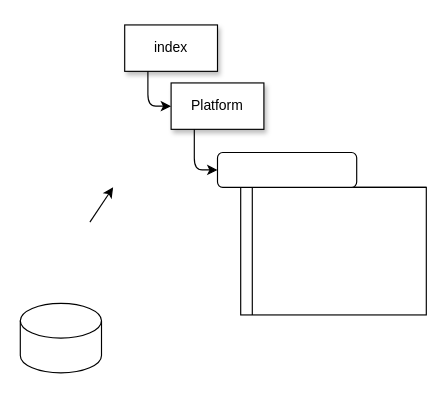
This 447x393 diagram has some shape labels left out. Each missing label, with the centre of its shape:
CreatePlatform: the point at 286,169
Homebridge: the point at 60,337
